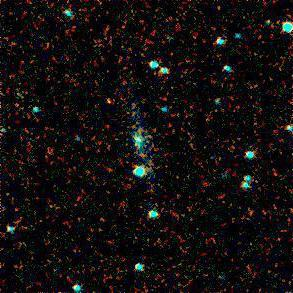star: (95, 91, 125, 121)
